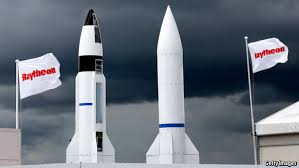ten_lua: (68, 6, 119, 167), (156, 7, 198, 168)
